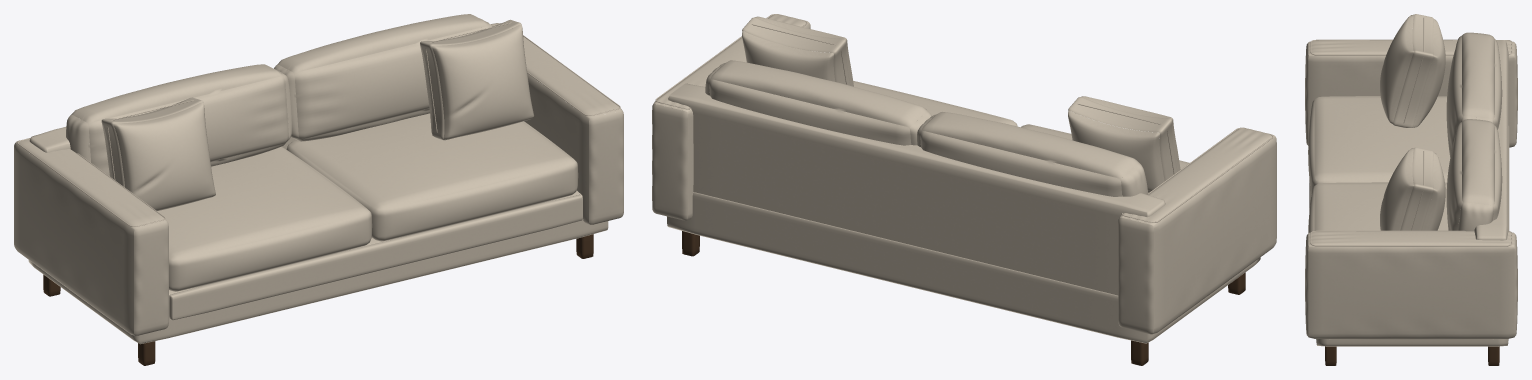
The model's file is sofa_sand_high.glb.
3 renders of one model, left to right at view 1: azimuth 30°, elevation 25°; view 2: azimuth 150°, elevation 25°; view 3: azimuth 270°, elevation 25°, orthographic. The views are drawn at different scales.
Parts seen in each view (by area): view 1: seat_cushion_2, arm_left, seat_cushion_1, back_cushion_2, back_cushion_1, front_apron, loose_pillow_2, arm_right, loose_pillow_1, upholstered_plinth, rear_frame; view 2: rear_frame, arm_left, upholstered_plinth, back_cushion_1, back_cushion_2, arm_right, loose_pillow_1, loose_pillow_2, seat_cushion_2, arm_upper_welt; view 3: arm_right, seat_cushion_1, arm_left, loose_pillow_1, back_cushion_2, back_cushion_1, loose_pillow_2, seat_cushion_2, rear_frame, upholstered_plinth, arm_upper_welt (×2), walnut_foot (×2).
Part boxes in pixels (left/top/right/bottom): seat_cushion_2: left=286, top=113, right=578, bottom=241; arm_left: left=14, top=138, right=168, bottom=335; seat_cushion_1: left=157, top=146, right=372, bottom=291; back_cushion_2: left=274, top=14, right=492, bottom=141; back_cushion_1: left=66, top=64, right=291, bottom=176; front_apron: left=169, top=194, right=582, bottom=320; loose_pillow_2: left=420, top=19, right=533, bottom=140; arm_right: left=523, top=36, right=623, bottom=224; loose_pillow_1: left=101, top=97, right=215, bottom=210; upholstered_plinth: left=28, top=190, right=608, bottom=344; rear_frame: left=29, top=23, right=504, bottom=152; rear_frame: left=668, top=83, right=1165, bottom=295; arm_left: left=1118, top=127, right=1276, bottom=334; upholstered_plinth: left=667, top=192, right=1260, bottom=343; back_cushion_1: left=917, top=112, right=1148, bottom=196; back_cushion_2: left=705, top=60, right=931, bottom=145; arm_right: left=652, top=14, right=810, bottom=220; loose_pillow_1: left=1068, top=96, right=1180, bottom=192; loose_pillow_2: left=742, top=16, right=853, bottom=86; seat_cushion_2: left=853, top=81, right=1017, bottom=126; arm_upper_welt: left=1121, top=127, right=1273, bottom=222; arm_right: left=1305, top=231, right=1517, bottom=339; seat_cushion_1: left=1308, top=96, right=1450, bottom=194; arm_left: left=1305, top=40, right=1517, bottom=147; loose_pillow_1: left=1380, top=14, right=1445, bottom=127; back_cushion_2: left=1446, top=119, right=1502, bottom=231; back_cushion_1: left=1446, top=32, right=1502, bottom=156; loose_pillow_2: left=1380, top=147, right=1445, bottom=230; seat_cushion_2: left=1308, top=182, right=1448, bottom=232; rear_frame: left=1474, top=40, right=1508, bottom=240; upholstered_plinth: left=1316, top=126, right=1509, bottom=346; arm_upper_welt (×2): left=1310, top=39, right=1512, bottom=246; walnut_foot (×2): left=1325, top=346, right=1499, bottom=365.
Bounding box in the file's own units: 2.2 × 0.85 × 0.95.
3 materials, 1 textured.
